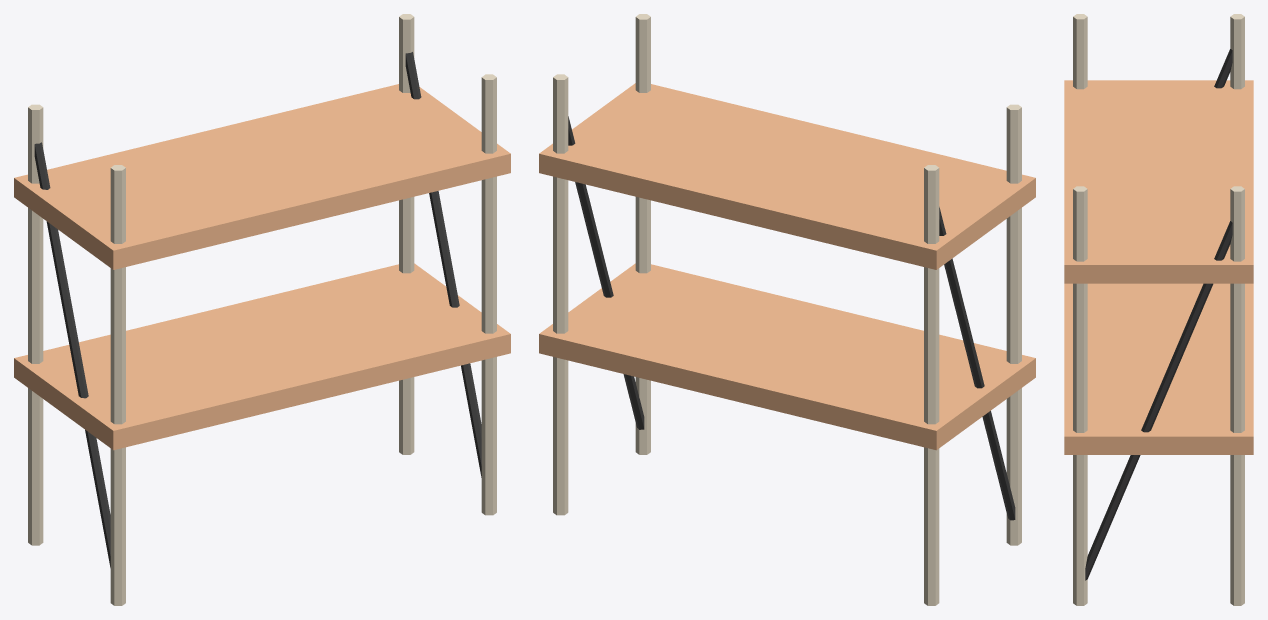
3 renders of one model, left to right at view 1: azimuth 30°, elevation 25°; view 2: azimuth 150°, elevation 25°; view 3: azimuth 270°, elevation 25°, orthographic. The views are drawn at different scales.
Visible parts, largest first — view 1: Platform.001, Platform, Upright, Upright.002, Upright.001, Cross brace, Upright.003, Cross brace.001; view 2: Platform.001, Platform, Upright.001, Upright.003, Upright, Upright.002, Cross brace, Cross brace.001; view 3: Platform.001, Platform, Upright.002, Upright.003, Cross brace.001, Upright, Upright.001, Cross brace.
Boxes of the visible parts, box(x1,y1,x2,y2) form: Platform.001: box(14, 84, 510, 269); Platform: box(14, 263, 510, 450); Upright: box(110, 165, 125, 605); Upright.002: box(481, 74, 496, 515); Upright.001: box(28, 104, 43, 545); Cross brace: box(34, 142, 110, 567); Upright.003: box(399, 14, 414, 454); Cross brace.001: box(405, 52, 481, 477); Platform.001: box(539, 83, 1035, 269); Platform: box(539, 263, 1035, 450); Upright.001: box(924, 165, 939, 605); Upright.003: box(553, 74, 568, 515); Upright: box(1006, 104, 1021, 545); Upright.002: box(635, 14, 650, 454); Cross brace: box(939, 207, 1015, 520); Cross brace.001: box(568, 116, 644, 429); Platform.001: box(1064, 80, 1253, 283); Platform: box(1064, 283, 1253, 454); Upright.002: box(1073, 186, 1087, 605); Upright.003: box(1230, 186, 1244, 605); Cross brace.001: box(1085, 221, 1232, 580); Upright: box(1073, 14, 1087, 89); Upright.001: box(1230, 14, 1244, 89); Cross brace: box(1214, 49, 1232, 88).
Bounding box in the file's own units: 150 × 157 × 65.
